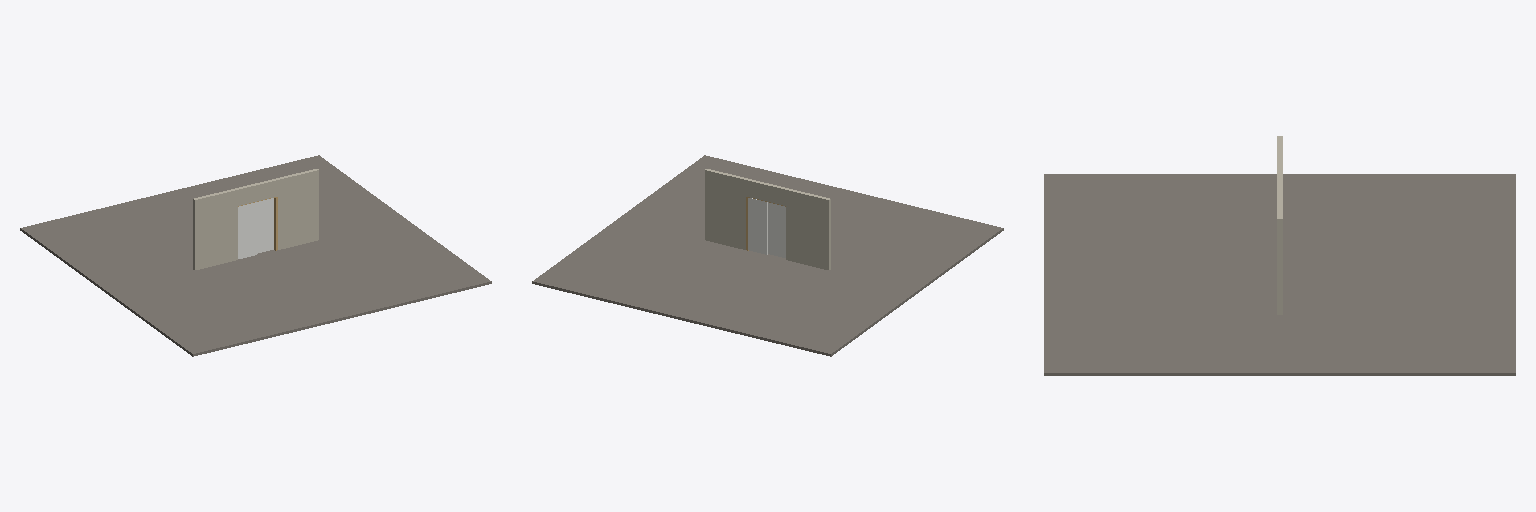
URDF robot description (db0020_sliding_bypass_minimal):
<?xml version="1.0" ?>
<robot xmlns:doorbench="https://github.com/adamraudonis/DoorBench/schema/urdf-ext" name="db0020_sliding_bypass_minimal">
  <link name="world_env">
    <visual name="floor_vis">
      <origin xyz="0 0 -0.05" rpy="0 0 0"/>
      <geometry>
        <box size="12 12 0.1"/>
      </geometry>
      <material name="mat_floor"/>
    </visual>
    <collision name="floor_col">
      <origin xyz="0 0 -0.05" rpy="0 0 0"/>
      <geometry>
        <box size="12 12 0.1"/>
      </geometry>
    </collision>
    <visual name="wall_left_vis">
      <origin xyz="-1.6355 0 1.35" rpy="0 0 0"/>
      <geometry>
        <box size="1.729 0.145 2.7"/>
      </geometry>
      <material name="mat_wall"/>
    </visual>
    <collision name="wall_left_col">
      <origin xyz="-1.6355 0 1.35" rpy="0 0 0"/>
      <geometry>
        <box size="1.729 0.145 2.7"/>
      </geometry>
    </collision>
    <visual name="wall_right_vis">
      <origin xyz="1.6655 0 1.35" rpy="0 0 0"/>
      <geometry>
        <box size="1.669 0.145 2.7"/>
      </geometry>
      <material name="mat_wall"/>
    </visual>
    <collision name="wall_right_col">
      <origin xyz="1.6655 0 1.35" rpy="0 0 0"/>
      <geometry>
        <box size="1.669 0.145 2.7"/>
      </geometry>
    </collision>
    <visual name="wall_header_vis">
      <origin xyz="0.03 0 2.3855" rpy="0 0 0"/>
      <geometry>
        <box size="1.602 0.145 0.629"/>
      </geometry>
      <material name="mat_wall"/>
    </visual>
    <collision name="wall_header_col">
      <origin xyz="0.03 0 2.3855" rpy="0 0 0"/>
      <geometry>
        <box size="1.602 0.145 0.629"/>
      </geometry>
    </collision>
    <visual name="jamb_l_vis">
      <origin xyz="-0.7615 0 1.026" rpy="0 0 0"/>
      <geometry>
        <box size="0.019 0.145 2.052"/>
      </geometry>
      <material name="mat_frame"/>
    </visual>
    <collision name="jamb_l_col">
      <origin xyz="-0.7615 0 1.026" rpy="0 0 0"/>
      <geometry>
        <box size="0.019 0.145 2.052"/>
      </geometry>
    </collision>
    <visual name="jamb_head_vis">
      <origin xyz="0 0 2.0615" rpy="0 0 0"/>
      <geometry>
        <box size="1.542 0.145 0.019"/>
      </geometry>
      <material name="mat_frame"/>
    </visual>
    <collision name="jamb_head_col">
      <origin xyz="0 0 2.0615" rpy="0 0 0"/>
      <geometry>
        <box size="1.542 0.145 0.019"/>
      </geometry>
    </collision>
    <visual name="jamb_latch_0_vis">
      <origin xyz="0.7915 0 1.026" rpy="0 0 0"/>
      <geometry>
        <box size="0.079 0.145 2.052"/>
      </geometry>
      <material name="mat_frame"/>
    </visual>
    <collision name="jamb_latch_0_col">
      <origin xyz="0.7915 0 1.026" rpy="0 0 0"/>
      <geometry>
        <box size="0.079 0.145 2.052"/>
      </geometry>
    </collision>
  </link>
  <link name="leaf_0">
    <inertial>
      <origin xyz="0 0 1.028" rpy="0 0 0"/>
      <mass value="12.908794"/>
      <inertia ixx="4.443044317" ixy="0" ixz="0" iyy="5.06634434" iyz="0" izz="0.625935568"/>
    </inertial>
    <visual name="leaf_0_slab_vis">
      <origin xyz="0 0 1.028" rpy="0 0 0"/>
      <geometry>
        <box size="0.762 0.035 2.032"/>
      </geometry>
      <material name="mat_leaf_0"/>
    </visual>
    <collision name="leaf_0_slab_col">
      <origin xyz="0 0 1.028" rpy="0 0 0"/>
      <geometry>
        <box size="0.762 0.035 2.032"/>
      </geometry>
    </collision>
  </link>
  <link name="leaf_1">
    <inertial>
      <origin xyz="0 0 1.028" rpy="0 0 0"/>
      <mass value="12.908794"/>
      <inertia ixx="4.443044317" ixy="0" ixz="0" iyy="5.06634434" iyz="0" izz="0.625935568"/>
    </inertial>
    <visual name="leaf_1_slab_vis">
      <origin xyz="0 0 1.028" rpy="0 0 0"/>
      <geometry>
        <box size="0.762 0.035 2.032"/>
      </geometry>
      <material name="mat_leaf_1"/>
    </visual>
    <collision name="leaf_1_slab_col">
      <origin xyz="0 0 1.028" rpy="0 0 0"/>
      <geometry>
        <box size="0.762 0.035 2.032"/>
      </geometry>
    </collision>
  </link>
  <joint name="leaf_0_slide" type="prismatic">
    <origin xyz="-0.368 -0.0425 0" rpy="0 0 0"/>
    <parent link="world_env"/>
    <child link="leaf_0"/>
    <axis xyz="1 0 0"/>
    <limit lower="0" upper="0.716" effort="5000" velocity="10"/>
    <dynamics damping="2.64669" friction="30.440925"/>
  </joint>
  <joint name="leaf_1_slide" type="prismatic">
    <origin xyz="0.368 0.0425 0" rpy="0 0 0"/>
    <parent link="world_env"/>
    <child link="leaf_1"/>
    <axis xyz="-1 0 0"/>
    <limit lower="0" upper="0.716" effort="5000" velocity="10"/>
    <dynamics damping="2.64669" friction="30.440925"/>
  </joint>
  <material name="mat_floor">
    <color rgba="0.55 0.53 0.5 1"/>
  </material>
  <material name="mat_frame">
    <color rgba="0.82 0.7 0.5 1"/>
  </material>
  <material name="mat_leaf_0">
    <color rgba="0.93 0.93 0.91 1"/>
  </material>
  <material name="mat_leaf_1">
    <color rgba="0.93 0.93 0.91 1"/>
  </material>
  <material name="mat_wall">
    <color rgba="0.78 0.76 0.7 1"/>
  </material>
</robot>

--- Render facts (derived) ---
3 views of the same robot in one strip: view 1: azimuth 30°, elevation 25°; view 2: azimuth 150°, elevation 25°; view 3: azimuth 270°, elevation 25° (orthographic).
Model db0020_sliding_bypass_minimal with 3 links and 2 joints (2 prismatic), rooted at world_env, posed all joints at 0.
Links seen in each view (by area): view 1: world_env, leaf_0, leaf_1; view 2: world_env, leaf_1, leaf_0; view 3: world_env.
Link boxes in pixels (x1=…): world_env: x1=20, y1=155, x2=491, y2=356; leaf_0: x1=238, y1=202, x2=256, y2=258; leaf_1: x1=257, y1=198, x2=273, y2=253; world_env: x1=532, y1=155, x2=1003, y2=356; leaf_1: x1=748, y1=198, x2=767, y2=254; leaf_0: x1=768, y1=202, x2=785, y2=257; world_env: x1=1044, y1=136, x2=1515, y2=375.
Bounding box of the posed robot: 12 × 12 × 2.8 m (x, y, z).
Geometry: primitives only (box / cylinder / sphere), no mesh files.
